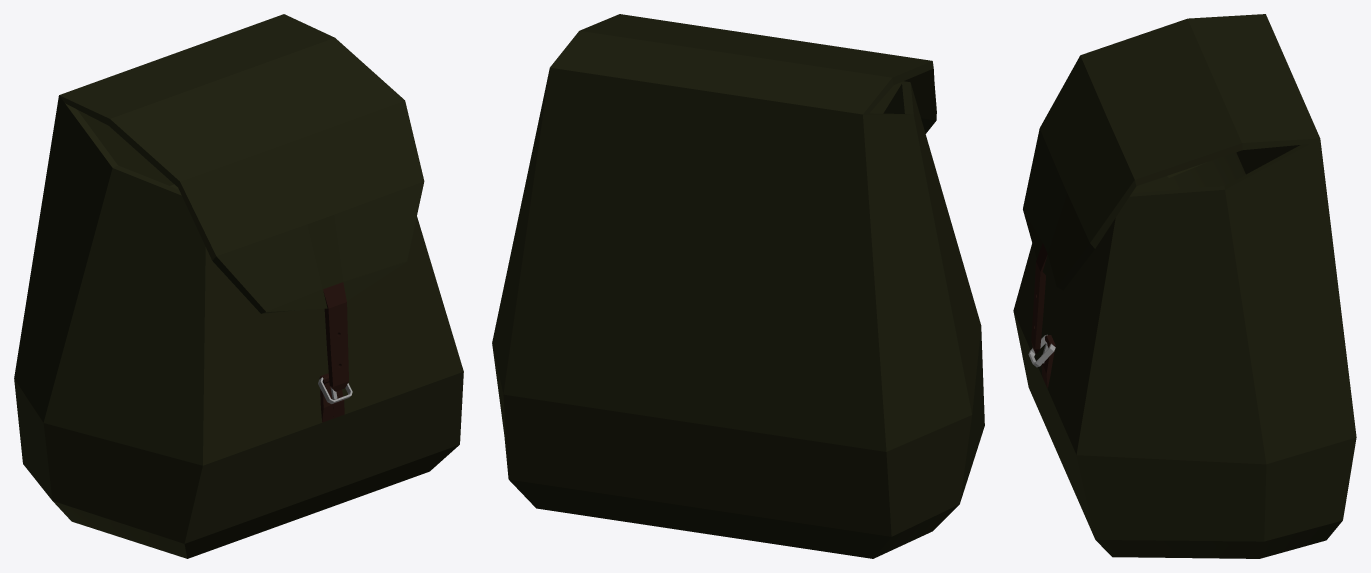
File: bag.FBX
3 views of the same model, side by side, from view 1: azimuth 30°, elevation 25°; view 2: azimuth 150°, elevation 25°; view 3: azimuth 270°, elevation 25° (orthographic). The views are drawn at different scales.
Parts seen in each view (by area): view 1: Box025, Bag; view 2: Box025; view 3: Box025, Bag.
Boxes of the visible parts, x1,y1,x2,y2 form: Box025: (14,14,463,558); Bag: (319,282,348,422); Box025: (492,14,984,558); Box025: (1013,14,1356,558); Bag: (1031,243,1055,388).
Size of the model in its own units: 8.24 by 8.03 by 6.26.
